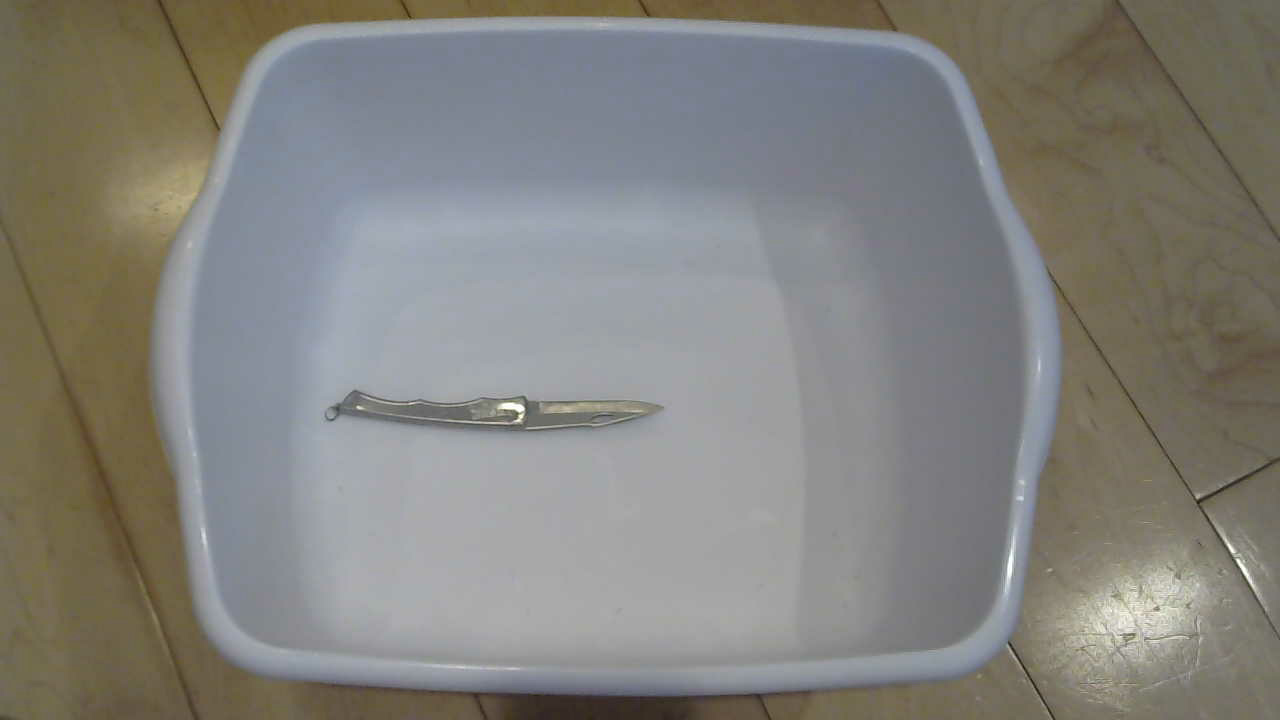knife: (315, 361, 672, 451)
